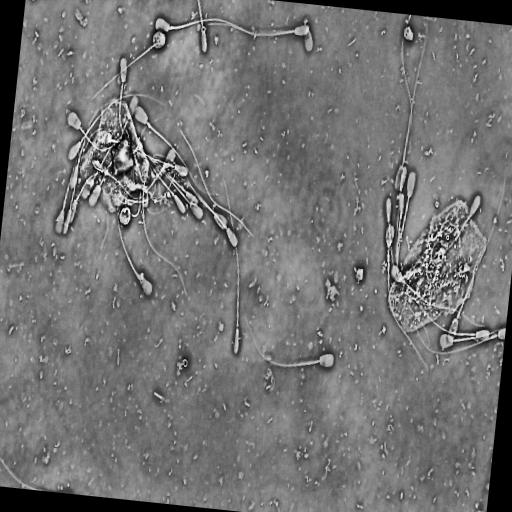dirt-particles: (386, 197, 490, 335), (325, 278, 340, 302), (118, 205, 133, 227), (151, 30, 166, 51), (176, 355, 190, 377), (402, 24, 416, 43), (352, 265, 365, 284)
loose-head: (303, 21, 315, 53)
loose-tail: (176, 123, 258, 243), (90, 42, 157, 104), (400, 15, 413, 138)
normal: (134, 105, 216, 196), (140, 158, 188, 299), (68, 94, 165, 161), (394, 16, 429, 193), (385, 226, 428, 368), (389, 265, 485, 327), (386, 197, 428, 334), (62, 128, 112, 235), (55, 127, 105, 234), (177, 164, 238, 248), (245, 319, 337, 372), (116, 195, 154, 299), (144, 155, 203, 219), (221, 175, 241, 356), (412, 298, 490, 342), (67, 111, 125, 151), (154, 15, 250, 35), (440, 326, 506, 348), (117, 55, 130, 145), (247, 22, 311, 39)
proximal-droplet: (146, 121, 151, 128), (169, 26, 175, 30)
